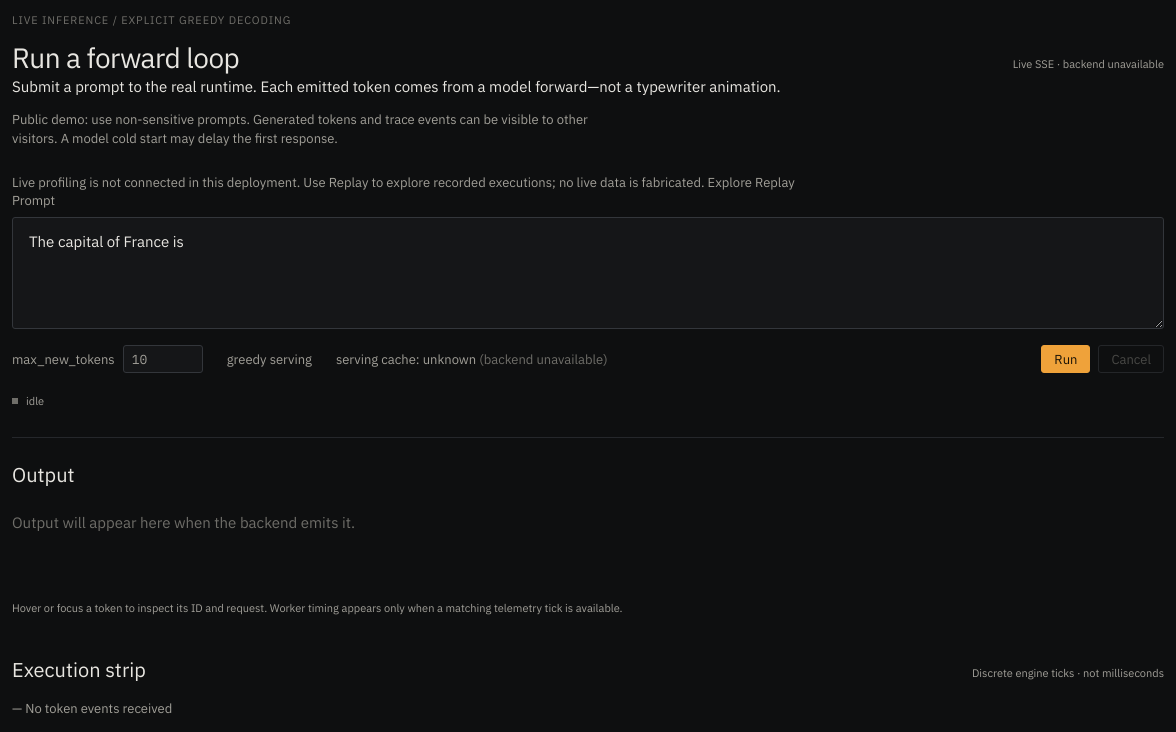
Test case: error followed by done cannot overwrite the error state
The image size is (1176, 732).
What coordinates should you click on to do the following:
click the button "Run"
I would click on:
 (1066, 359)
Its box is [1041, 345, 1090, 373].
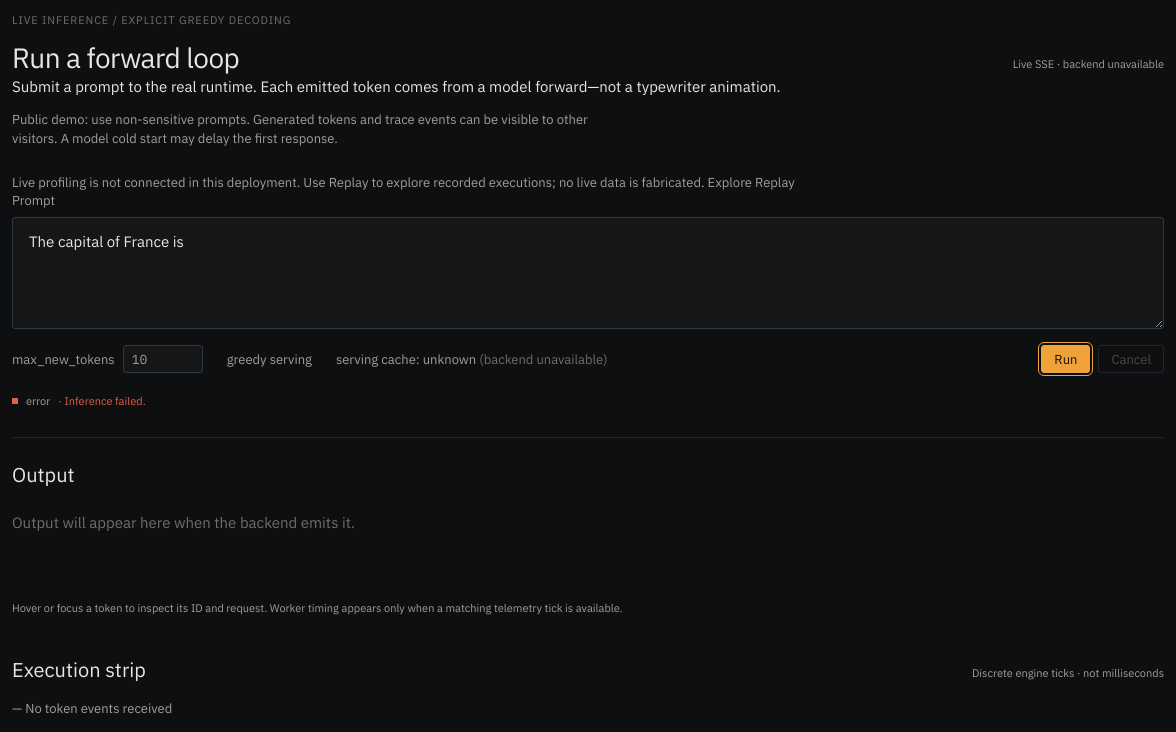
Now the message shows "error", box [26, 394, 50, 408]
Now the message shows "Inference failed.", box [64, 394, 146, 408]
